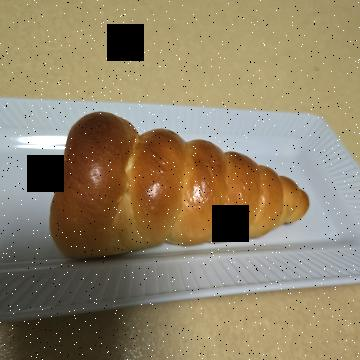cream horn: (91, 53, 291, 342)
